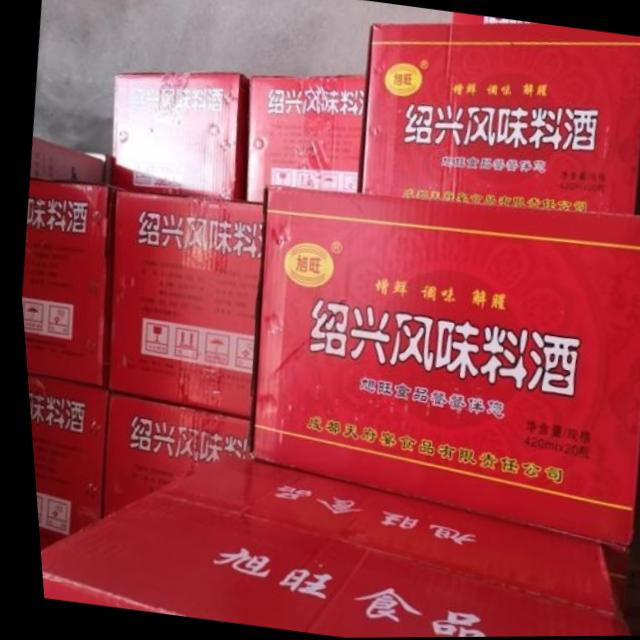box: (242, 185, 640, 552), (32, 453, 621, 638), (353, 24, 640, 218), (100, 190, 265, 419), (17, 175, 116, 389), (94, 389, 245, 518), (109, 72, 246, 203), (244, 74, 363, 204), (22, 375, 102, 551), (27, 137, 101, 185)
